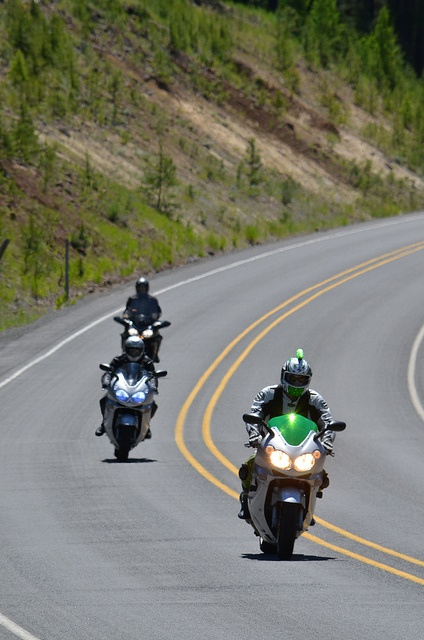non-vehicle: (244, 414, 347, 558), (95, 361, 167, 461), (109, 312, 171, 358)
